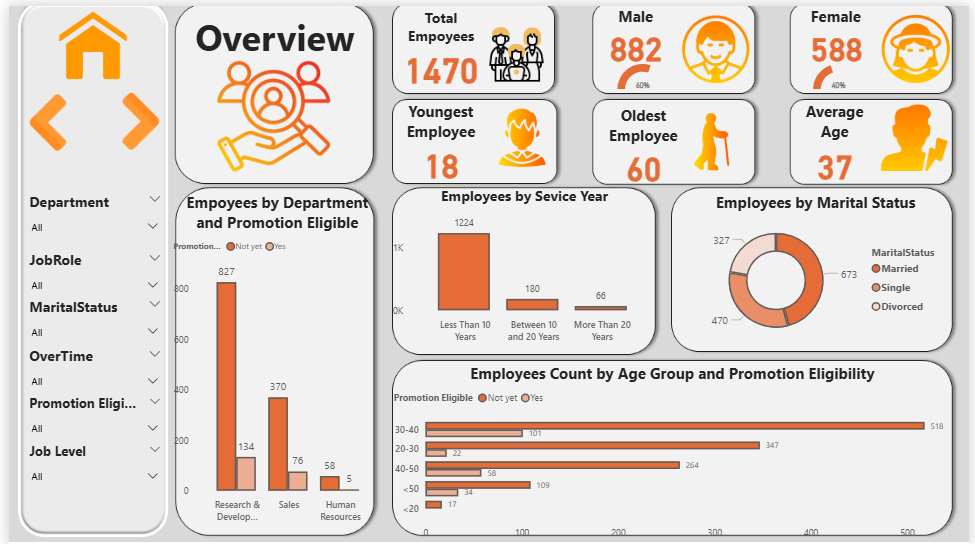

The page's visual inventory and layout, read from the dashboard file:
{"tool":"powerbi","page":{"name":"Overview","canvas":[1280,720],"ordinal":1},"visuals":[{"type":"card","title":"Female","fields":{"Values":["_Measures.Female"]},"box":[1047.5,0,109,79.7],"z":0},{"type":"gauge","fields":{"MaxValue":["_Measures.Total Emp"],"Y":["_Measures.%Female"]},"box":[1047.5,71.6,115.5,43.9],"z":1000},{"type":"clusteredColumnChart","title":"Empoyees by Department  and Promotion Eligible","fields":{"Category":["Data.Department"],"Y":["_Measures.Total Emp"],"Series":["Data.Promotion Eligible"]},"box":[213.1,247.2,287.9,448.9],"z":2000},{"type":"card","title":"         Male","fields":{"Values":["_Measures.Male"]},"box":[782.6,0,107.3,80.5],"z":3000},{"type":"slicer","fields":{"Values":["Data.Department"]},"box":[13,242,200,80],"z":4000},{"type":"card","title":"Total Empoyees","fields":{"Values":["_Measures.Total Emp"]},"box":[505.9,1.6,139.9,107.4],"z":5000},{"type":"card","title":"Youngest Employee","fields":{"Values":["Min(Data.Age)"]},"box":[505.9,126.9,139.9,113.9],"z":6000},{"type":"card","title":"Oldest Employee","fields":{"Values":["Max(Data.Age)"]},"box":[779.1,131.8,131.8,109],"z":7000},{"type":"textbox","box":[218,1.6,273.3,102.5],"z":8000},{"type":"card","title":"Average Age ","fields":{"Values":["Avg(Data.Age)"]},"box":[1047.5,126.9,105.7,115.5],"z":9000},{"type":"image","box":[633.7,1.6,85.2,125.2],"z":10000},{"type":"donutChart","title":"Employees by Marital Status","fields":{"Y":["_Measures.Total Emp"],"Category":["Data.MaritalStatus"]},"box":[889.7,248.9,370.9,208.2],"z":11000},{"type":"image","box":[224.5,63.4,258.6,165.9],"z":12000},{"type":"clusteredBarChart","title":"Employees Count by Age Group and Promotion Eligibility","fields":{"Category":["Data.AgeBins"],"Y":["_Measures.Total Emp"],"Series":["Data.Promotion Status"]},"box":[507.5,476.6,753.1,244],"z":13000},{"type":"image","box":[889.9,0,103.9,115.5],"z":14000},{"type":"image","box":[1155.9,1.7,104.7,110.6],"z":15000},{"type":"gauge","fields":{"MaxValue":["_Measures.Total Emp"],"Y":["_Measures.%Male"]},"box":[777.5,71.6,133.4,43.9],"z":16000},{"type":"image","box":[634.4,126.9,100.8,99.2],"z":17000},{"type":"image","box":[884.8,131.8,105.7,97.6],"z":18000},{"type":"image","box":[1156.5,126.9,102.5,99.2],"z":19000},{"type":"image","box":[12.5,0,200,105],"z":20000},{"type":"image","box":[130,108,91,91],"z":21000},{"type":"image","box":[5,110,92.5,90],"z":22000},{"type":"columnChart","title":"Employees by Sevice Year","fields":{"Category":["Data.SeviceYear"],"Y":["_Measures.Total Emp"]},"box":[505.9,240.7,362.7,216.3],"z":23000},{"type":"slicer","fields":{"Values":["Data.JobRole"]},"box":[13,319.9,200,65],"z":24000},{"type":"slicer","fields":{"Values":["Data.MaritalStatus"]},"box":[13.3,382.9,200,66.7],"z":25000},{"type":"slicer","fields":{"Values":["Data.OverTime"]},"box":[13.3,447.5,200,66.7],"z":26000},{"type":"slicer","fields":{"Values":["Data.Promotion Eligible"]},"box":[13.3,512.1,200,66.7],"z":27000},{"type":"slicer","fields":{"Values":["Data.JobLevel2"]},"box":[13.3,576.7,200,66.7],"z":28000}]}

Visuals, with their boxes in screenshot pixels (x1, y1, x2, y2), scaled from the page's 1280x720 canvas onto the 975x544 screenshot:
"Female" card: bbox=(798, 0, 881, 60)
gauge - _Measures.Total Emp x _Measures.%Female: bbox=(798, 54, 886, 87)
"Empoyees by Department  and Promotion Eligible" clusteredColumnChart: bbox=(162, 187, 382, 526)
"         Male" card: bbox=(596, 0, 678, 61)
slicer - Data.Department: bbox=(10, 183, 162, 243)
"Total Empoyees" card: bbox=(385, 1, 492, 82)
"Youngest Employee" card: bbox=(385, 96, 492, 182)
"Oldest Employee" card: bbox=(593, 100, 694, 182)
textbox: bbox=(166, 1, 374, 79)
"Average Age " card: bbox=(798, 96, 878, 183)
image: bbox=(483, 1, 548, 96)
"Employees by Marital Status" donutChart: bbox=(678, 188, 960, 345)
image: bbox=(171, 48, 368, 173)
"Employees Count by Age Group and Promotion Eligibility" clusteredBarChart: bbox=(387, 360, 960, 543)
image: bbox=(678, 0, 757, 87)
image: bbox=(880, 1, 960, 85)
gauge - _Measures.Total Emp x _Measures.%Male: bbox=(592, 54, 694, 87)
image: bbox=(483, 96, 560, 171)
image: bbox=(674, 100, 754, 173)
image: bbox=(881, 96, 959, 171)
image: bbox=(10, 0, 162, 79)
image: bbox=(99, 82, 168, 150)
image: bbox=(4, 83, 74, 151)
"Employees by Sevice Year" columnChart: bbox=(385, 182, 662, 345)
slicer - Data.JobRole: bbox=(10, 242, 162, 291)
slicer - Data.MaritalStatus: bbox=(10, 289, 162, 340)
slicer - Data.OverTime: bbox=(10, 338, 162, 389)
slicer - Data.Promotion Eligible: bbox=(10, 387, 162, 437)
slicer - Data.JobLevel2: bbox=(10, 436, 162, 486)
